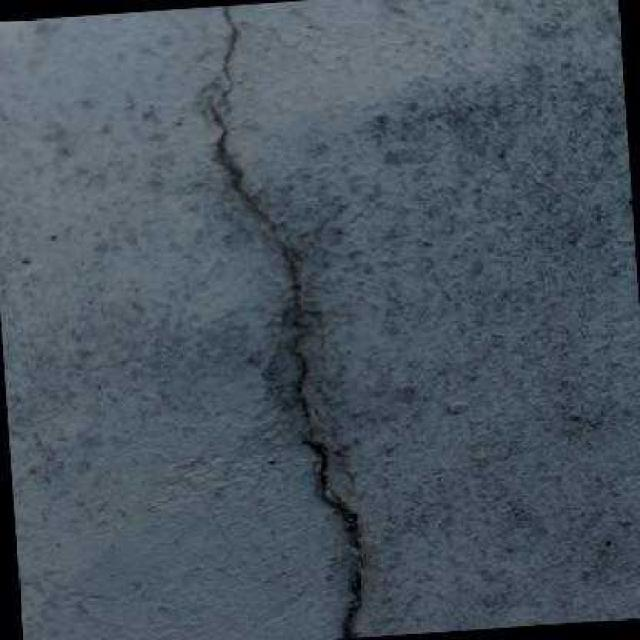D00: (208, 5, 365, 639)
